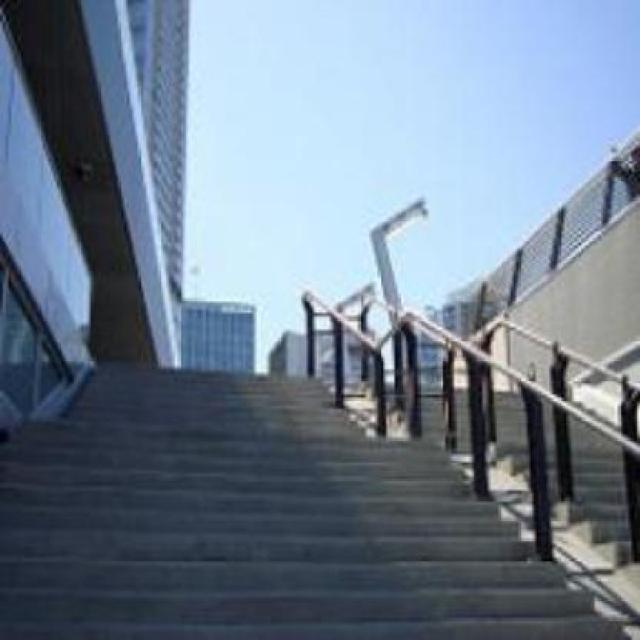stair: (12, 407, 501, 640)
